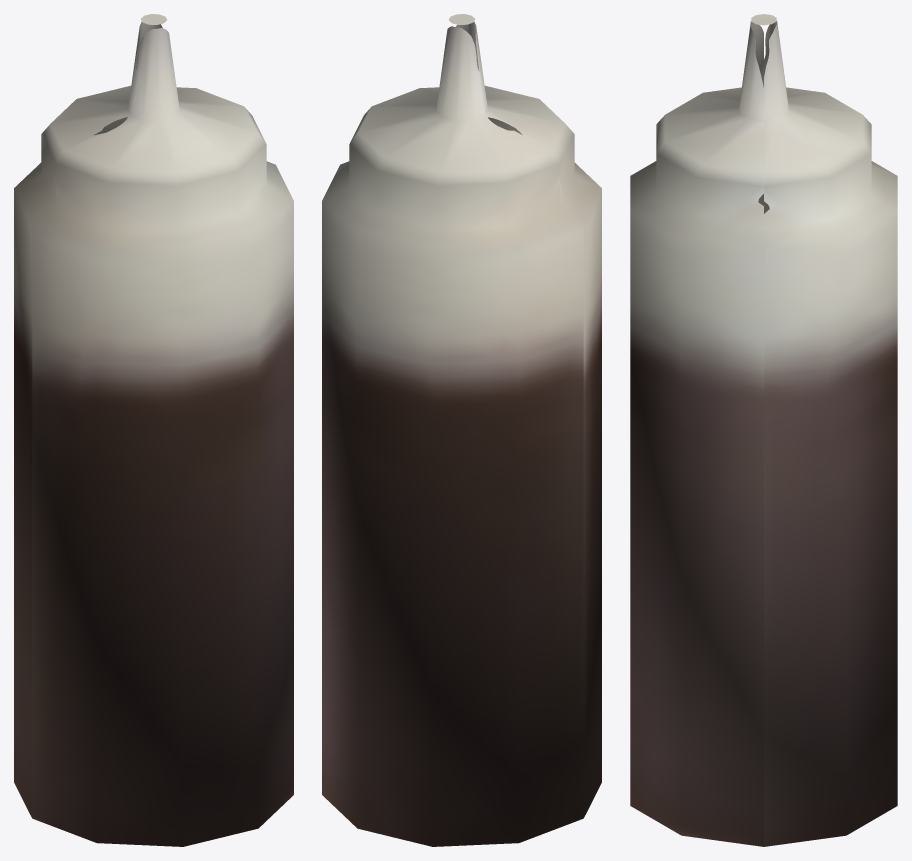
The model's file is chicken_sauce.FBX.
3 renders of one model, left to right at view 1: azimuth 30°, elevation 25°; view 2: azimuth 150°, elevation 25°; view 3: azimuth 270°, elevation 25°, orthographic.
Parts seen in each view (by area): view 1: chicken_sauce; view 2: chicken_sauce; view 3: chicken_sauce.
Part boxes in pixels (x1,y1,x2,y2): chicken_sauce: [14, 14, 293, 846]; chicken_sauce: [322, 14, 601, 846]; chicken_sauce: [630, 14, 897, 846].
Size of the model in its own units: 29.82 by 90 by 28.36.
